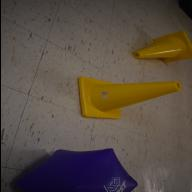cone: (78, 77, 180, 119), (132, 31, 192, 62)
cube: (15, 148, 136, 192)
